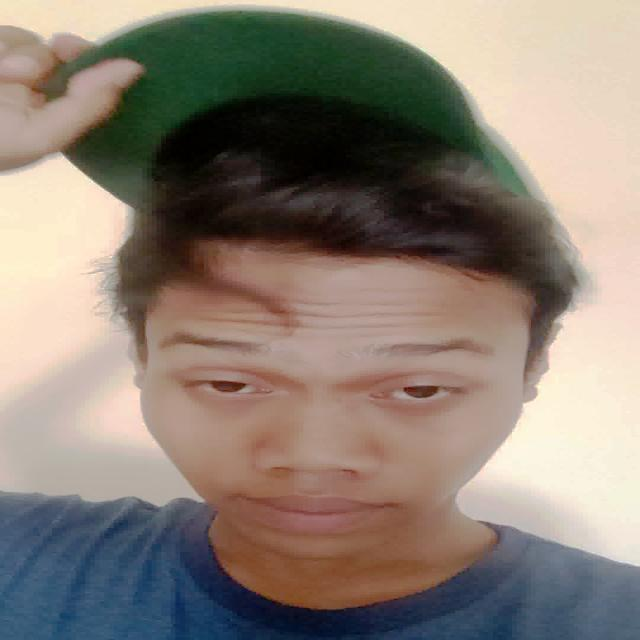TOPI: (26, 6, 543, 195)
